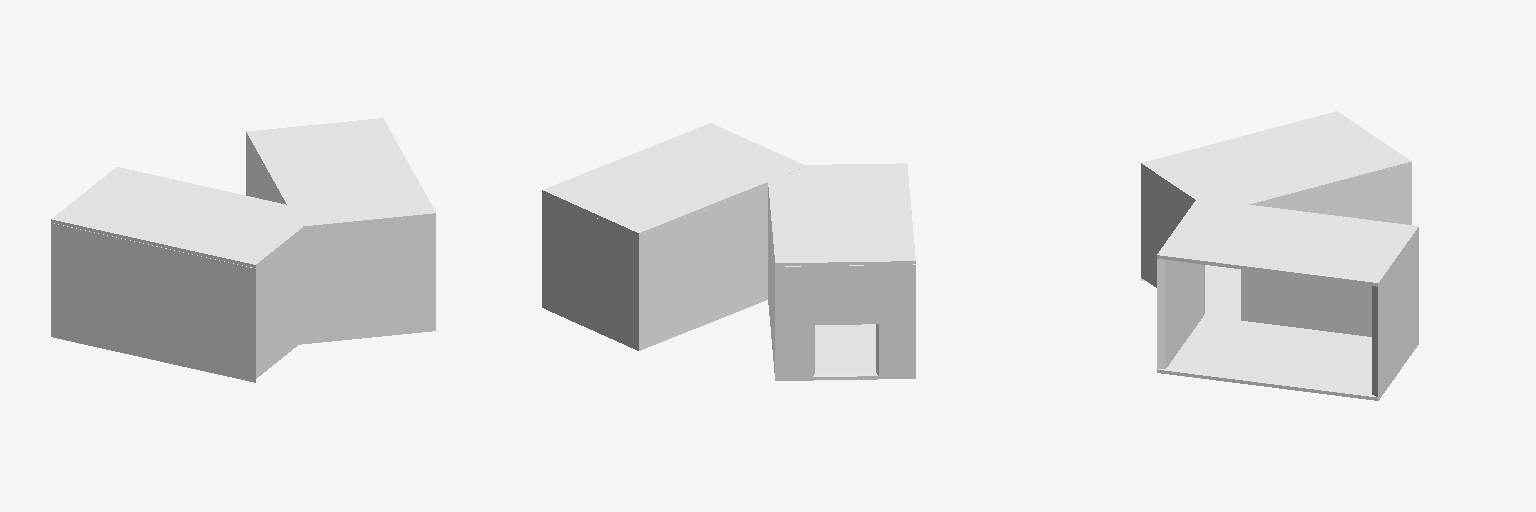
File: CleftBuilding_WIP.obj
3 renders of one model, left to right at view 1: azimuth 30°, elevation 25°; view 2: azimuth 150°, elevation 25°; view 3: azimuth 270°, elevation 25°, orthographic.
Parts seen in each view (by area): view 1: Building_Cube.002; view 2: Building_Cube.002; view 3: Building_Cube.002.
Boxes of the visible parts, x1=… form: Building_Cube.002: x1=51, y1=118, x2=435, y2=382; Building_Cube.002: x1=542, y1=123, x2=915, y2=380; Building_Cube.002: x1=1141, y1=111, x2=1418, y2=400.
Size of the model in its own units: 72.36 by 23.09 by 49.35.